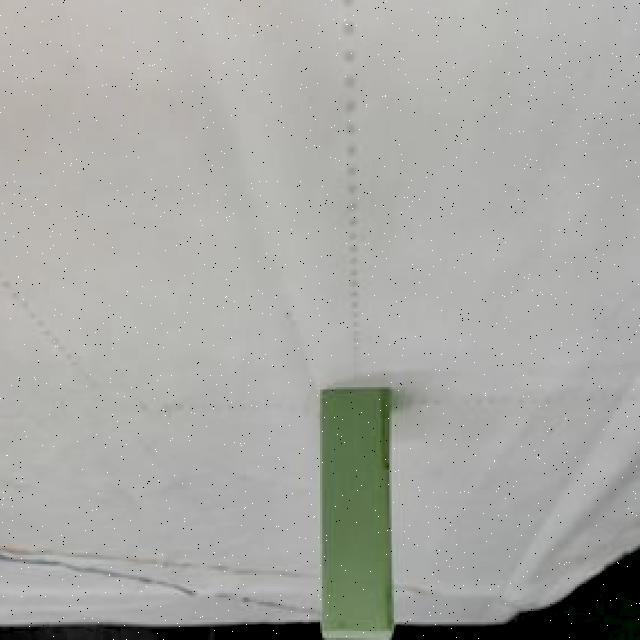greenbox: (316, 387, 398, 640)
